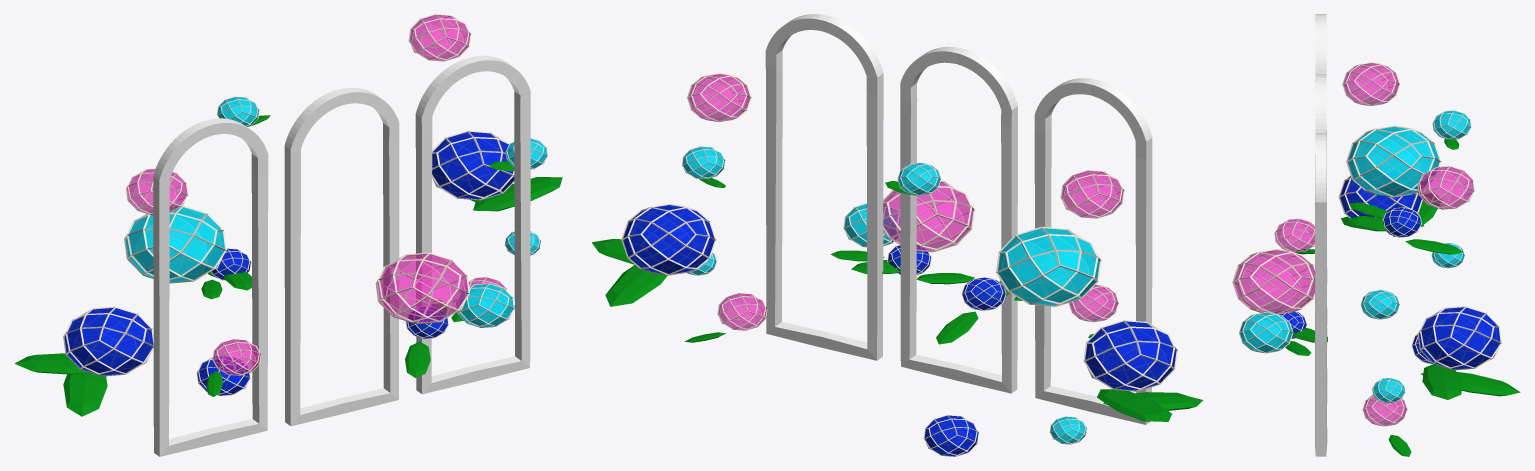
The model's file is 出力用あじさい簡易.glb.
3 views of the same model, side by side, from view 1: azimuth 30°, elevation 25°; view 2: azimuth 150°, elevation 25°; view 3: azimuth 270°, elevation 25° (orthographic). The views are drawn at different scales.
Parts seen in each view (by area): view 1: Window.007; view 2: Window.007; view 3: Window.007.
Boxes of the visible parts, box(x1,y1,x2,y2) form: Window.007: box(14, 14, 562, 456); Window.007: box(592, 14, 1202, 456); Window.007: box(1232, 14, 1520, 456).
Size of the model in its own units: 5.03 by 2.89 by 2.46.
